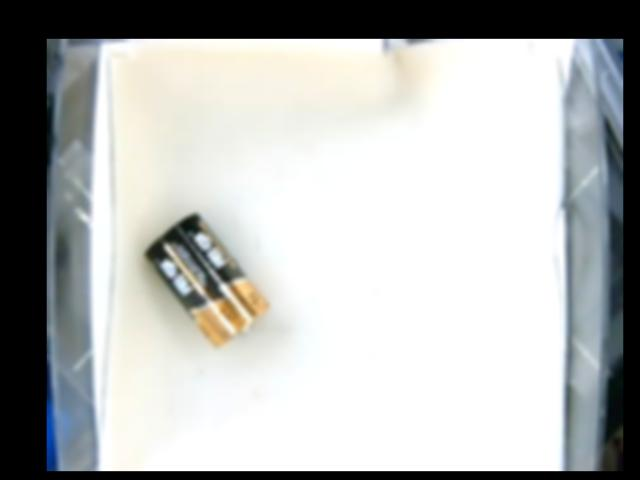Battery: (145, 211, 265, 352)
